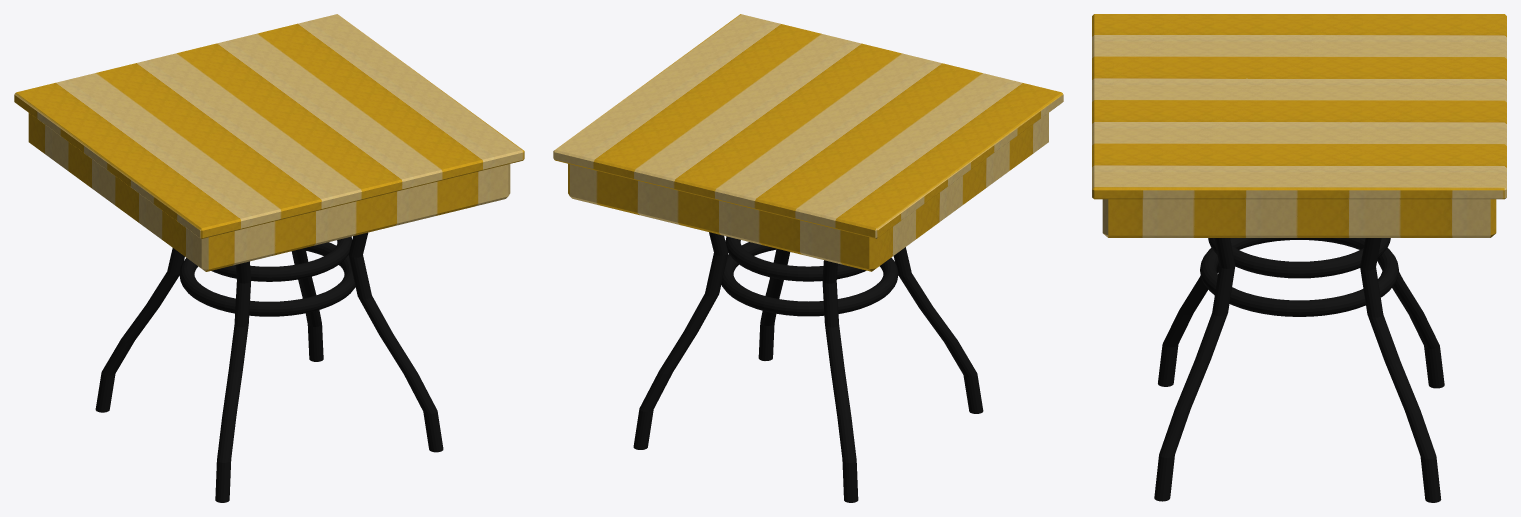
Rendered from table3.obj.
3 views of the same model, side by side, from view 1: azimuth 30°, elevation 25°; view 2: azimuth 150°, elevation 25°; view 3: azimuth 270°, elevation 25° (orthographic). The views are drawn at different scales.
Parts seen in each view (by area): view 1: taula_rodo_mesa_r, taula_rodo_mesa_recta, taula_rodo_metall, taula_rodo_lateral_me; view 2: taula_rodo_mesa_r, taula_rodo_mesa_recta, taula_rodo_metall, taula_rodo_lateral_me; view 3: taula_rodo_mesa_r, taula_rodo_metall, taula_rodo_mesa_recta, taula_rodo_lateral_me.
Boxes of the visible parts, x1,y1,x2,y2 form: taula_rodo_mesa_r: [16, 14, 522, 228]; taula_rodo_mesa_recta: [28, 113, 510, 271]; taula_rodo_metall: [95, 232, 443, 502]; taula_rodo_lateral_me: [14, 93, 524, 238]; taula_rodo_mesa_r: [555, 14, 1061, 227]; taula_rodo_mesa_recta: [568, 113, 1048, 271]; taula_rodo_metall: [633, 232, 983, 502]; taula_rodo_lateral_me: [553, 92, 1063, 238]; taula_rodo_mesa_r: [1094, 14, 1504, 187]; taula_rodo_metall: [1154, 238, 1444, 502]; taula_rodo_mesa_recta: [1102, 199, 1496, 237]; taula_rodo_lateral_me: [1092, 14, 1506, 199].
Bounding box in the file's own units: 1 × 0.9068 × 1.
2 materials, 1 textured.
